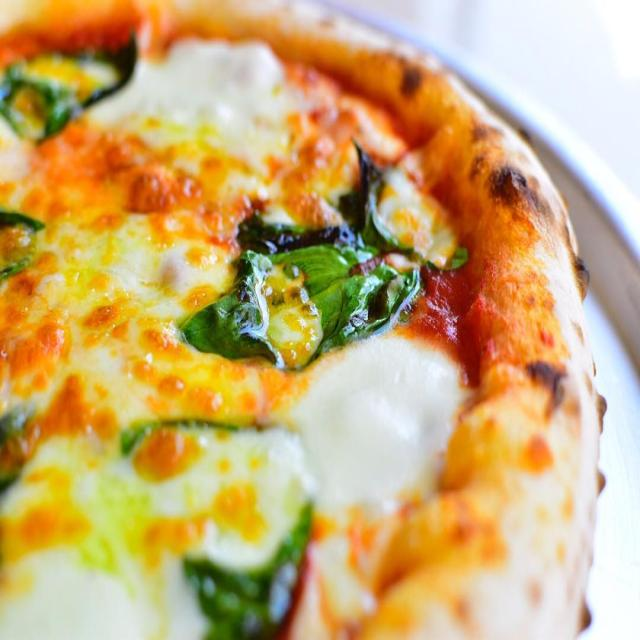basil: (175, 240, 428, 375), (231, 133, 469, 274), (177, 493, 317, 640), (1, 26, 142, 145), (112, 405, 249, 461), (0, 199, 47, 288), (0, 397, 43, 494)
pizza: (0, 2, 605, 639)
